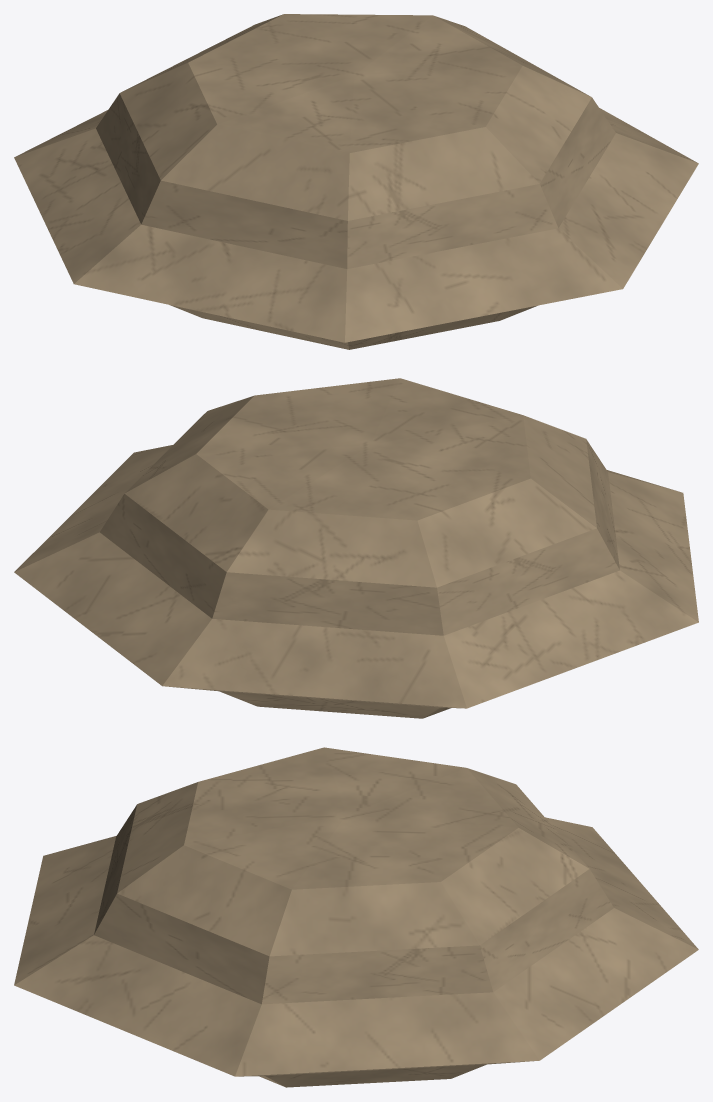
The model's file is prop_rock_b.obj.
The picture shows the model from 3 angles, top to bottom: view 1: azimuth 30°, elevation 25°; view 2: azimuth 150°, elevation 25°; view 3: azimuth 270°, elevation 25°; orthographic projection.
Visible parts, largest first — view 1: prop_rock_b; view 2: prop_rock_b; view 3: prop_rock_b.
Boxes of the visible parts, x1,y1,x2,y2 form: prop_rock_b: (14,14,698,349); prop_rock_b: (14,378,698,718); prop_rock_b: (14,747,698,1087).
Size of the model in its own units: 2.05 by 0.7627 by 2.03.
1 material, 1 textured.
